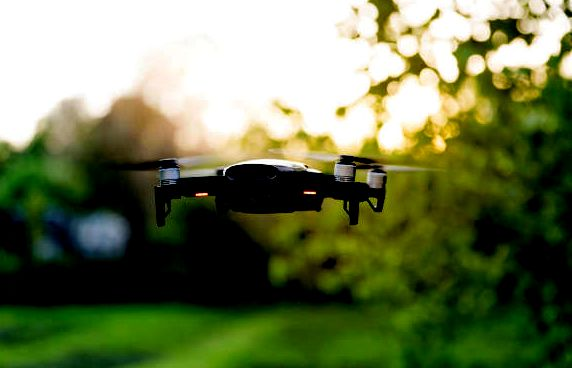Drone: (99, 147, 451, 227)
